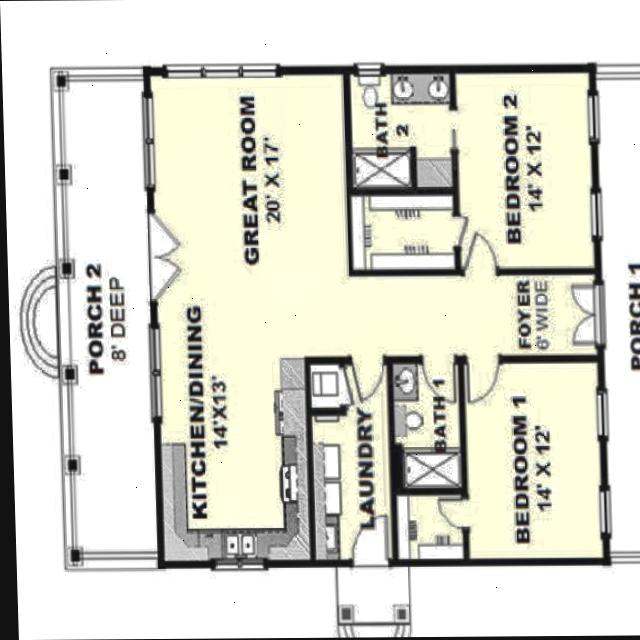room: (150, 67, 600, 560), (64, 78, 155, 552), (457, 69, 595, 270), (465, 360, 602, 559), (313, 362, 391, 560), (352, 73, 451, 188), (393, 361, 460, 487), (351, 196, 454, 269), (397, 494, 462, 557)
